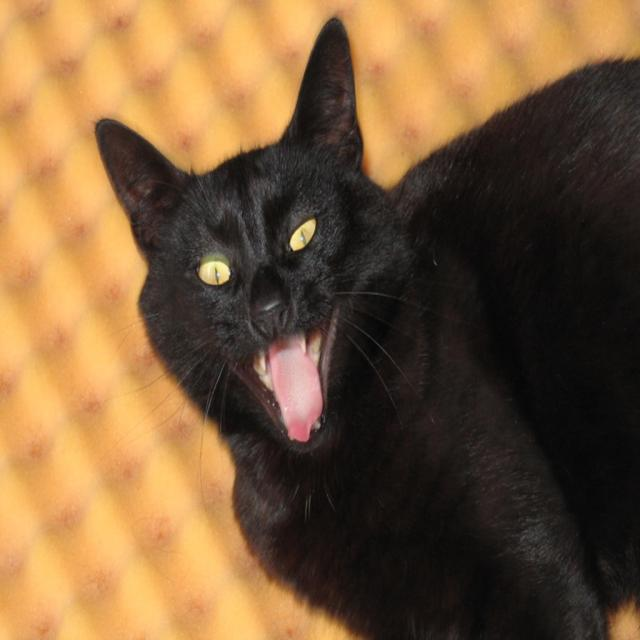Cat: (88, 10, 640, 639)
